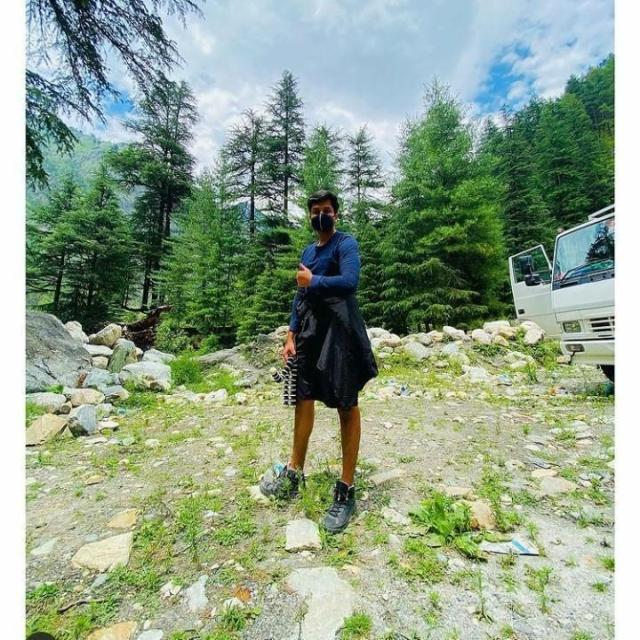no-helmet: (310, 202, 338, 238)
